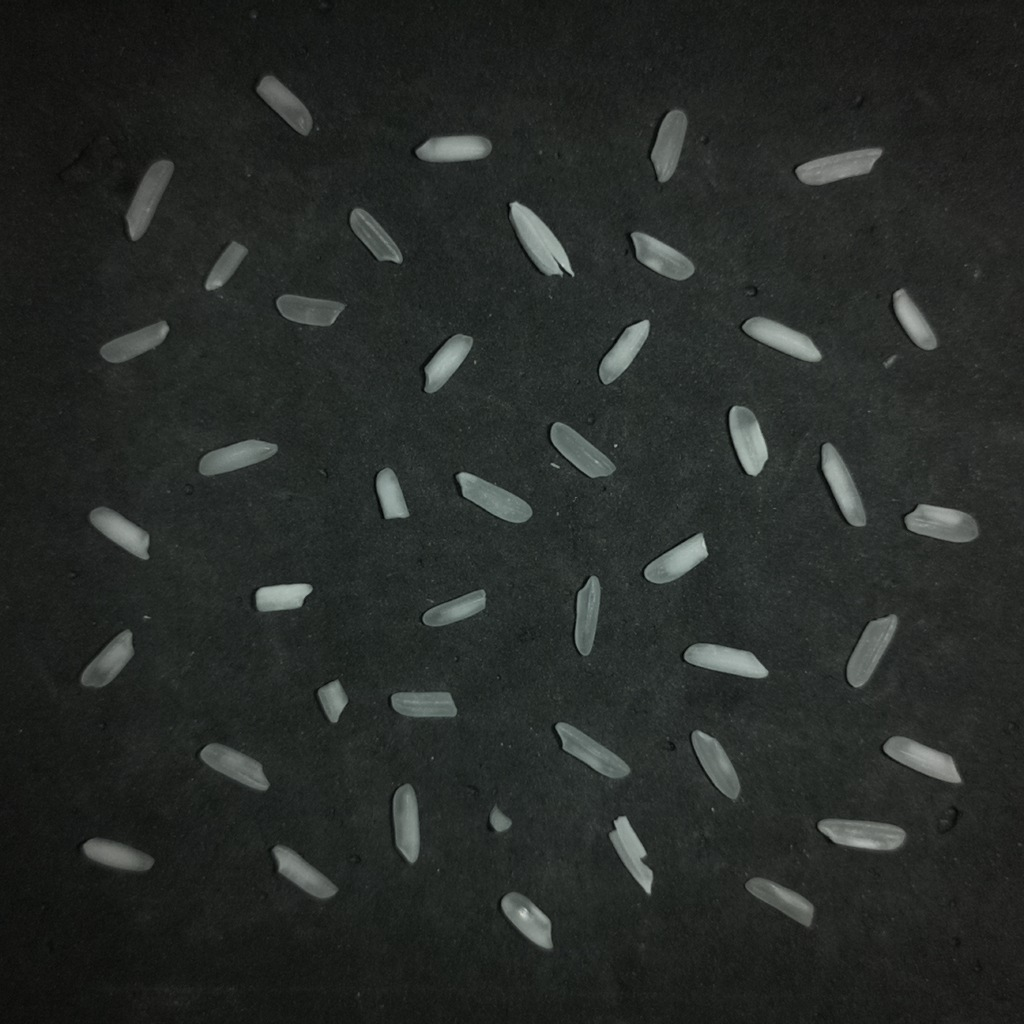broken: (276, 294, 344, 326), (205, 241, 247, 290)
chalky: (555, 722, 629, 778), (821, 443, 867, 527), (882, 736, 961, 783), (741, 316, 821, 361), (271, 845, 337, 899), (256, 75, 312, 135), (199, 743, 268, 791), (88, 506, 149, 559), (599, 320, 648, 384), (80, 629, 133, 687), (198, 439, 277, 476), (501, 892, 552, 949), (683, 643, 767, 677), (424, 334, 472, 393), (904, 504, 978, 542), (728, 406, 767, 475), (893, 289, 937, 350), (82, 838, 153, 872), (422, 589, 485, 626), (375, 468, 408, 519), (256, 583, 312, 611), (317, 679, 348, 723)
foreign: (509, 201, 573, 275), (609, 816, 652, 894), (488, 805, 511, 833)
whole: (125, 160, 173, 241), (456, 472, 532, 523), (846, 614, 897, 687), (550, 422, 613, 478), (745, 877, 814, 927), (691, 730, 740, 799), (794, 147, 882, 184), (645, 533, 707, 583), (630, 232, 694, 280), (349, 208, 402, 263), (99, 321, 168, 363), (817, 819, 905, 851), (650, 109, 687, 182), (574, 576, 601, 656), (392, 784, 419, 863), (415, 135, 491, 162), (390, 691, 456, 717)
